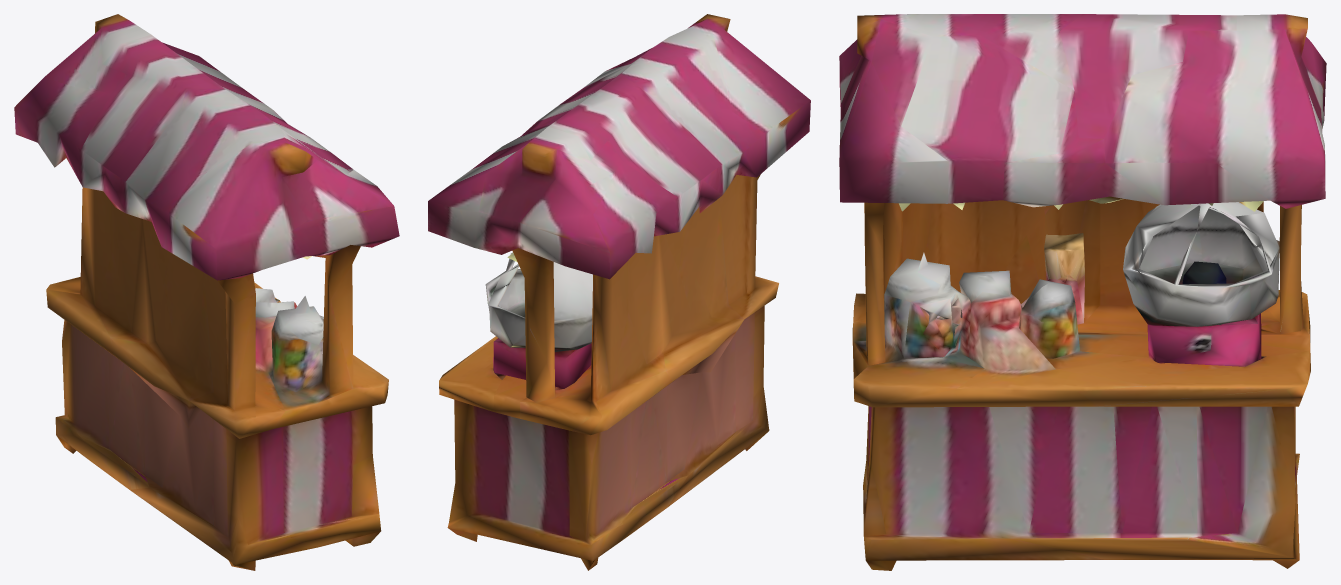
The model's file is stall.glb.
The picture shows the model from 3 angles, left to right: view 1: azimuth 30°, elevation 25°; view 2: azimuth 150°, elevation 25°; view 3: azimuth 270°, elevation 25°; orthographic projection. The views are drawn at different scales.
Visible parts, largest first — view 1: tripo_node_07ce8e03-2952-4ba4-ab86-c833c59f68e2; view 2: tripo_node_07ce8e03-2952-4ba4-ab86-c833c59f68e2; view 3: tripo_node_07ce8e03-2952-4ba4-ab86-c833c59f68e2.
Boxes of the visible parts, <box> form: tripo_node_07ce8e03-2952-4ba4-ab86-c833c59f68e2: <box>14,14,399,570</box>; tripo_node_07ce8e03-2952-4ba4-ab86-c833c59f68e2: <box>428,14,810,570</box>; tripo_node_07ce8e03-2952-4ba4-ab86-c833c59f68e2: <box>839,14,1326,570</box>.
Size of the model in its own units: 0.4659 by 1 by 0.8724.
1 material, 1 textured.
